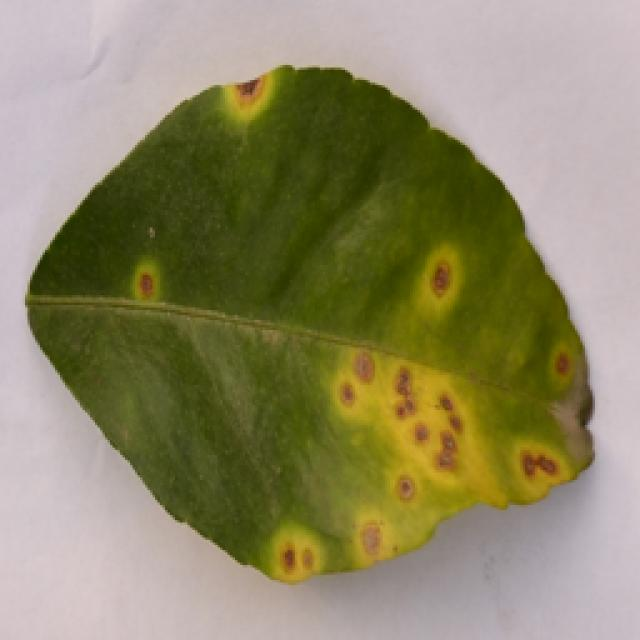canker: (72, 66, 600, 584)
